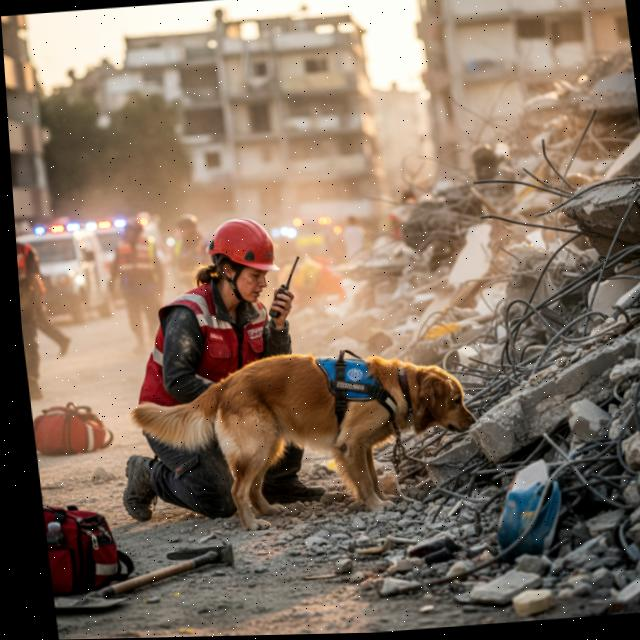dog: (133, 330, 507, 535)
rescuer: (85, 200, 324, 541), (14, 203, 69, 410), (102, 212, 181, 349), (162, 204, 211, 300)
